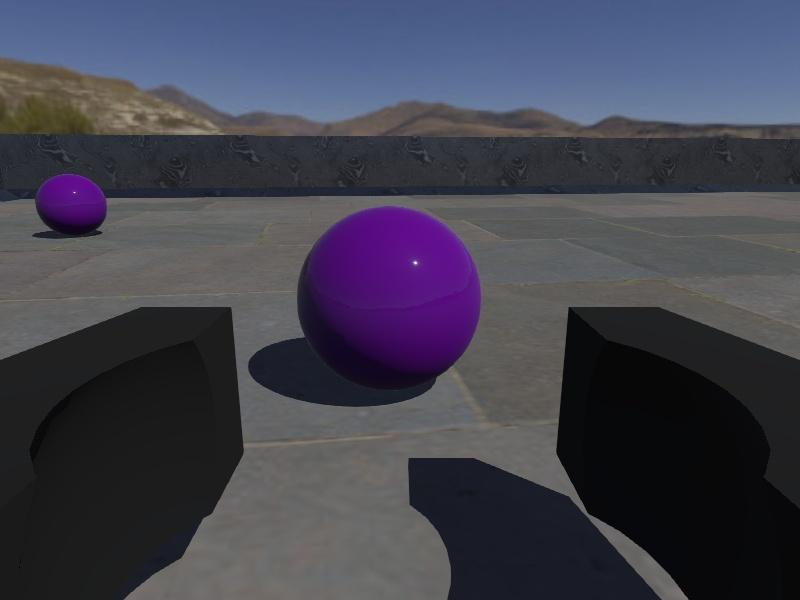violet ball: (296, 204, 483, 392), (34, 173, 108, 238)
